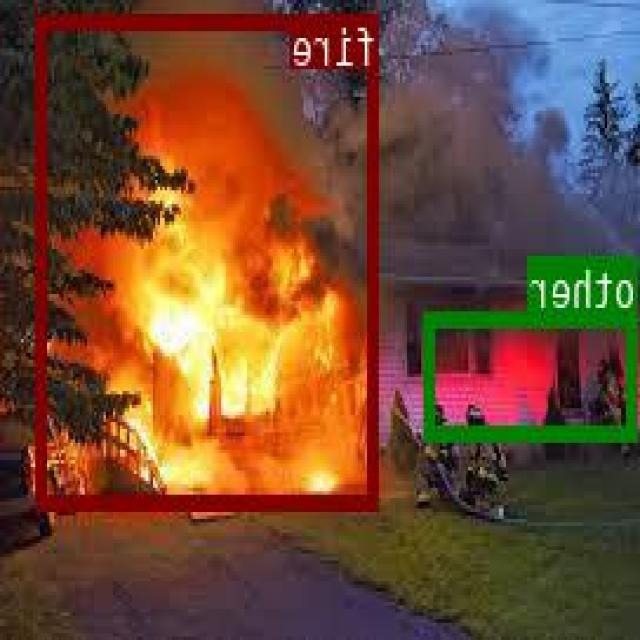fire: (39, 12, 380, 508)
other: (427, 309, 640, 439)
